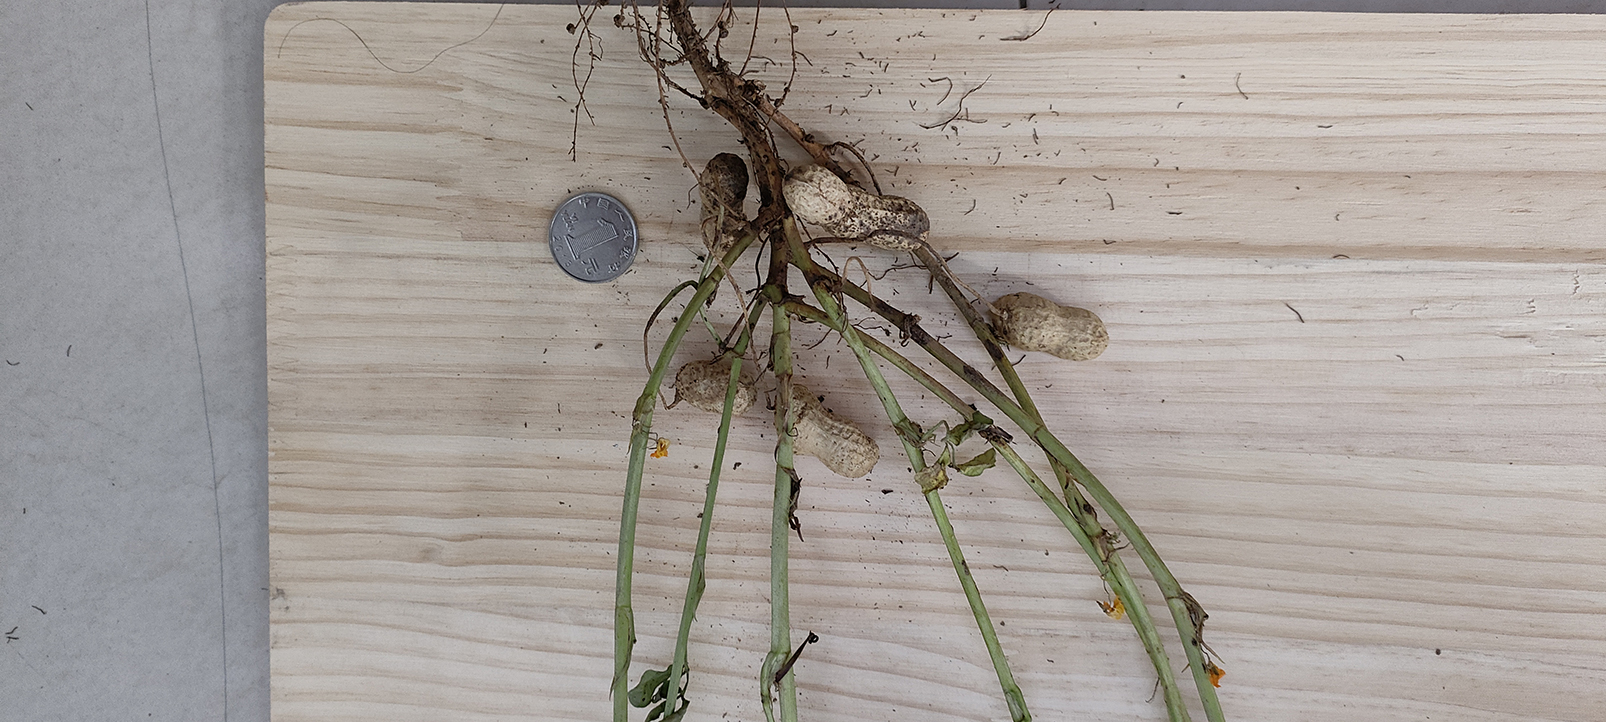h: (783, 164, 930, 250), (989, 291, 1110, 362), (789, 386, 880, 478)
l: (699, 153, 746, 253), (677, 360, 750, 415)
